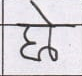o_matra: (42, 9, 57, 60)
